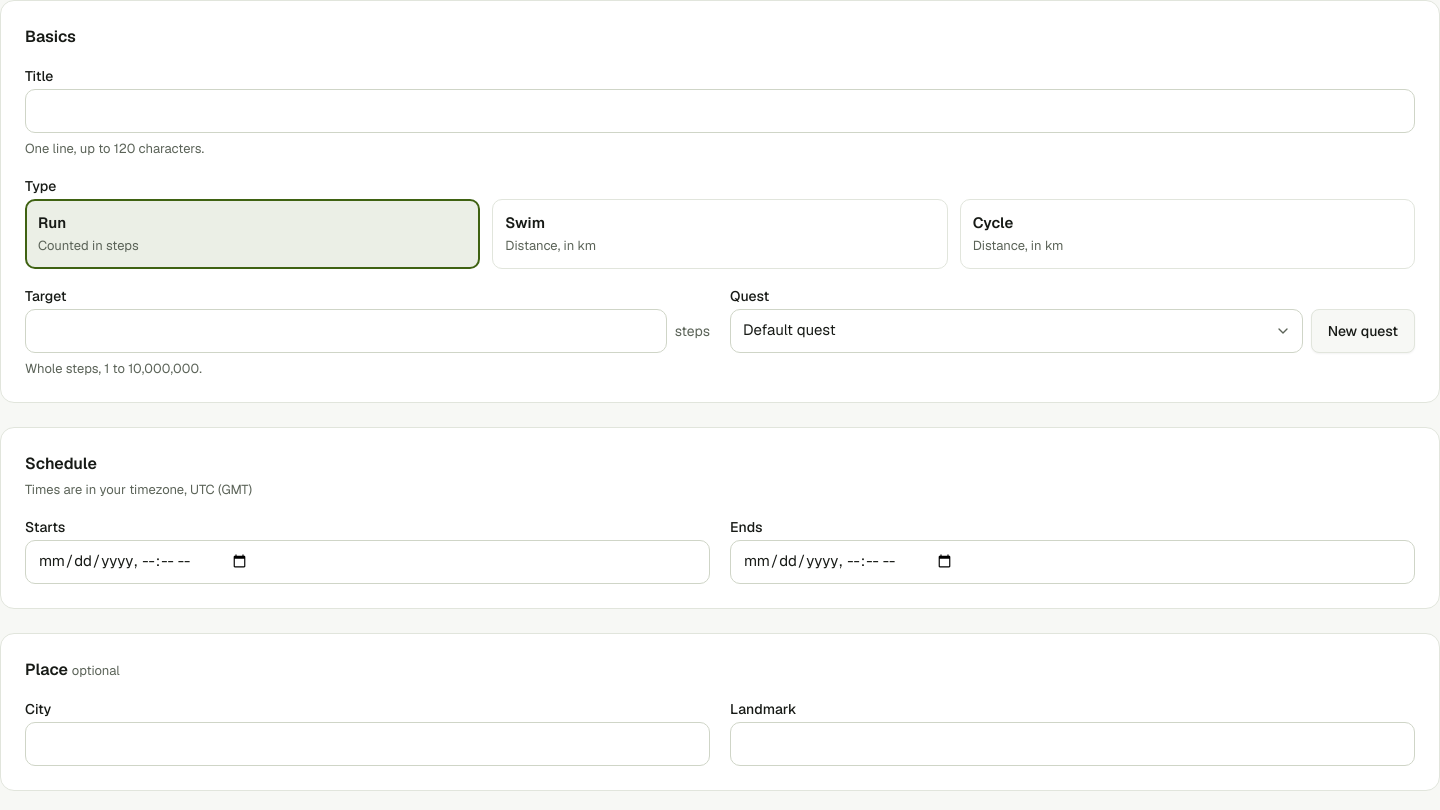
Test case: ChallengeForm › idle › counts a run in steps and a swim in km
Expected: the text "Whole steps, 1 to 10,000,000." is shown, [25, 360, 202, 376]
Click the radio button labelled "Swim Distance, in km" at (525, 222), box [492, 198, 948, 268]
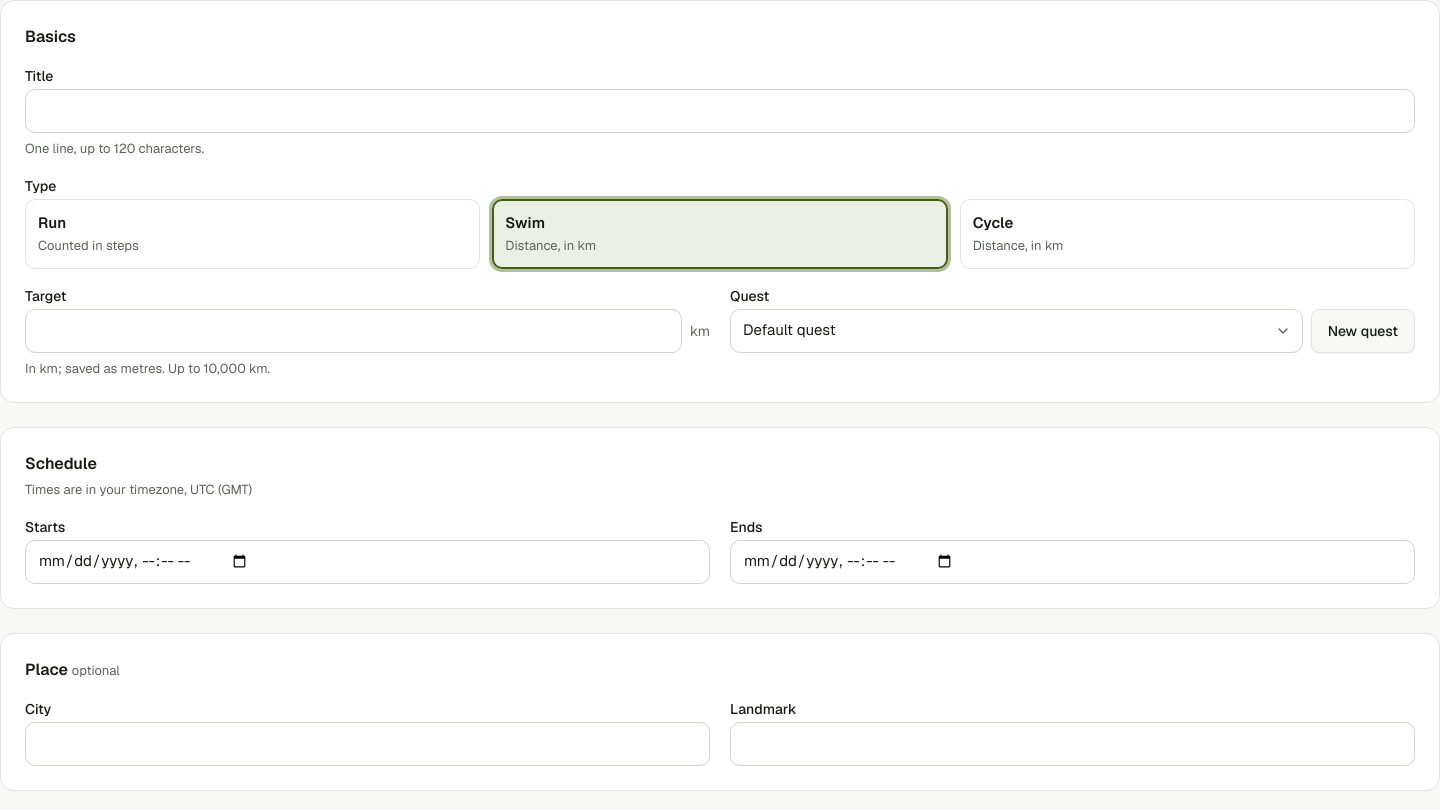
Expected: the radio button labelled "Swim Distance, in km" is checked, [492, 198, 948, 268]
Expected: the text "In km; saved as metres. Up to 10,000 km." is shown, [25, 360, 270, 376]
